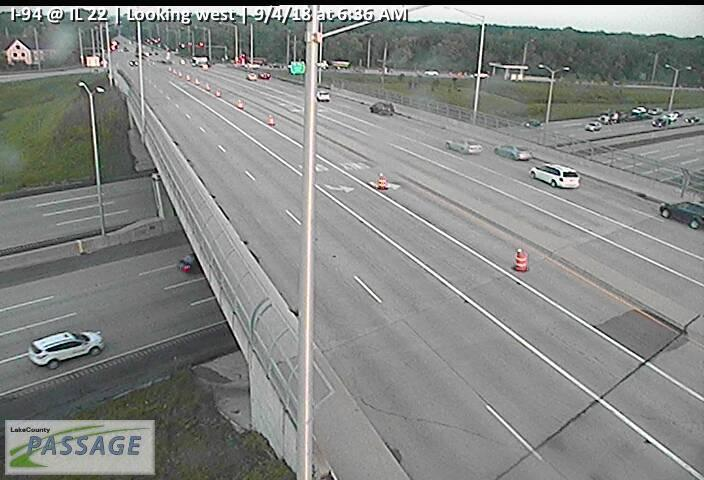SUV: (29, 330, 104, 368), (528, 164, 581, 190), (317, 91, 330, 103)
Sedan: (658, 200, 704, 230), (444, 136, 481, 153), (494, 142, 531, 159), (520, 119, 541, 129), (583, 120, 602, 131)
